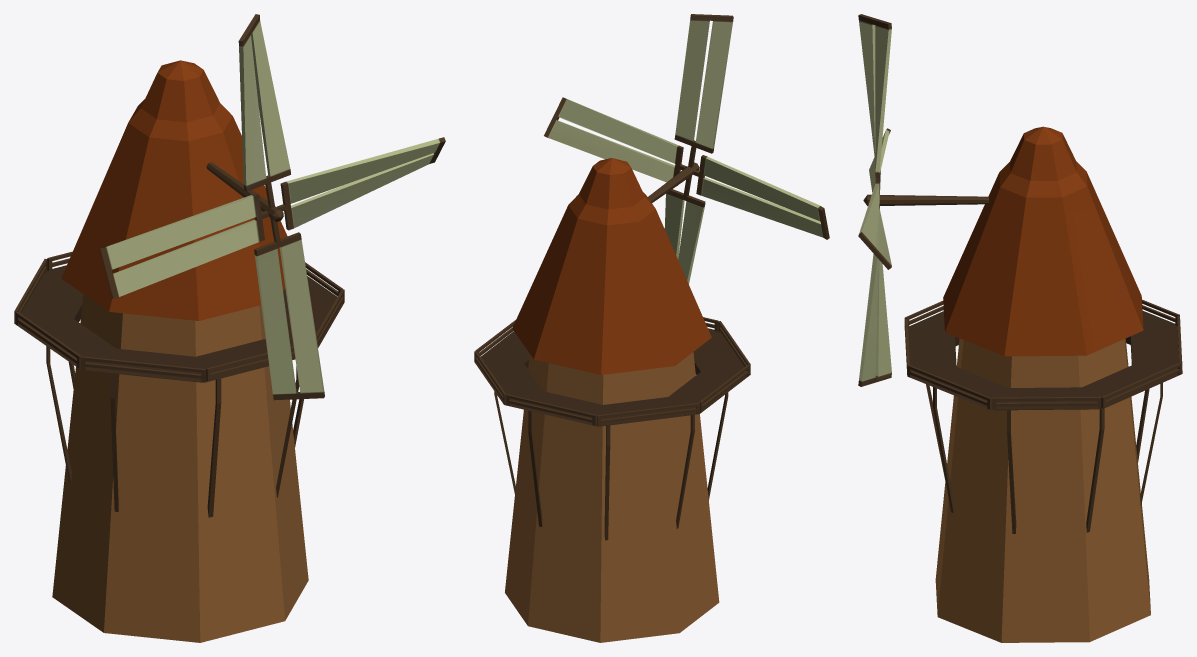
The model's file is Moinho_pulit.fbx.
3 views of the same model, side by side, from view 1: azimuth 30°, elevation 25°; view 2: azimuth 150°, elevation 25°; view 3: azimuth 270°, elevation 25° (orthographic). The views are drawn at different scales.
Parts seen in each view (by area): view 1: CorpoMoinho, PasMoinho; view 2: CorpoMoinho, PasMoinho; view 3: CorpoMoinho, PasMoinho.
Boxes of the visible parts, bbox=[...] form: CorpoMoinho: bbox=[14, 60, 344, 642]; PasMoinho: bbox=[99, 14, 445, 400]; CorpoMoinho: bbox=[474, 158, 750, 642]; PasMoinho: bbox=[544, 14, 829, 284]; CorpoMoinho: bbox=[904, 126, 1182, 642]; PasMoinho: bbox=[858, 14, 988, 386].
Size of the model in its own units: 3303 by 6024 by 3107.
